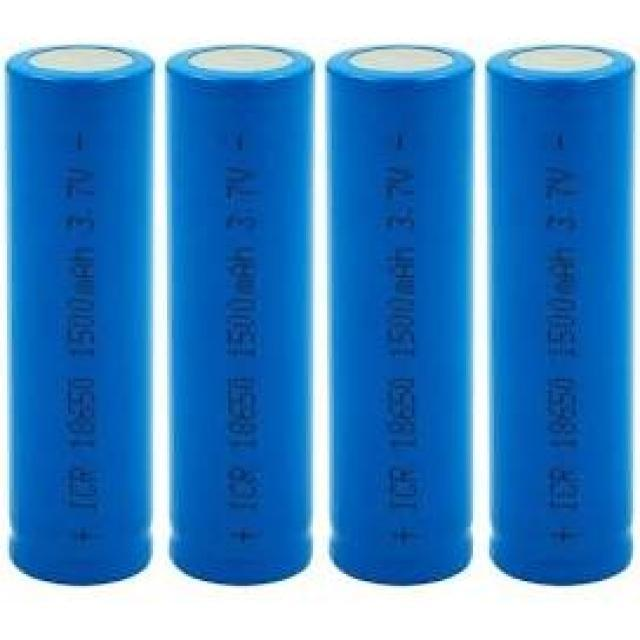AA: (4, 42, 155, 585), (164, 43, 315, 585), (485, 42, 635, 585), (325, 43, 475, 585)
